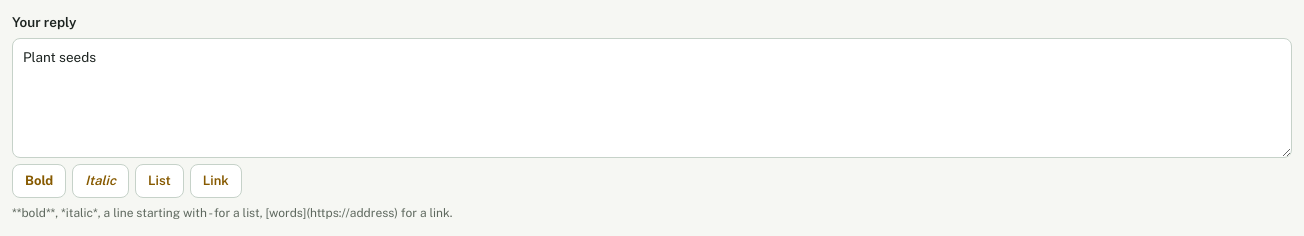
Test: the composer › writes the marks for bold, italic, a list and a link into the text
Click the button "Bold".
click(39, 180)  # box [12,164,66,198]
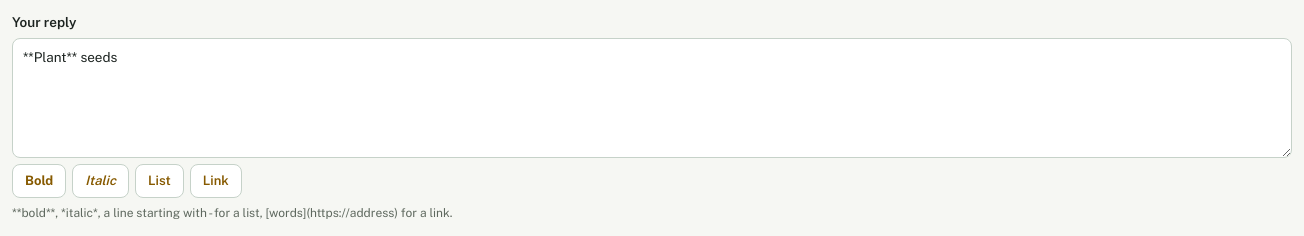
Now the text box labelled "Your reply" holds "**Plant** seeds", box [12,38,1292,158]
Click the button "Italic".
click(101, 180)  # box [72,164,129,198]
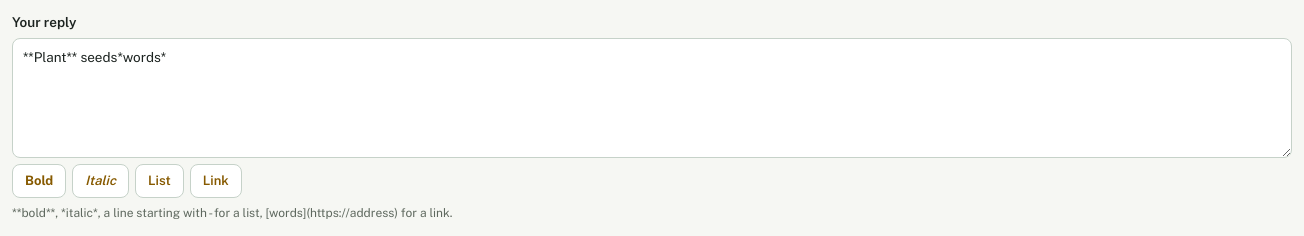
Now the text box labelled "Your reply" holds "**Plant** seeds*words*", box [12,38,1292,158]
Click the button "List".
click(159, 180)  # box [135,164,184,198]
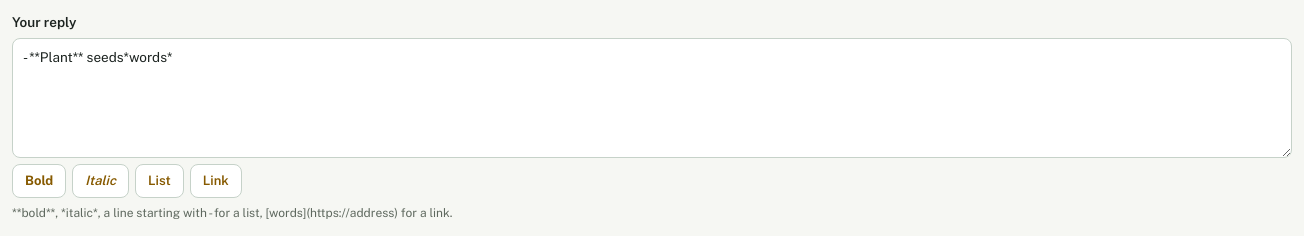
Now the text box labelled "Your reply" holds "- **Plant** seeds*words*", box [12,38,1292,158]
Click the button "Link".
click(216, 180)  # box [190,164,242,198]
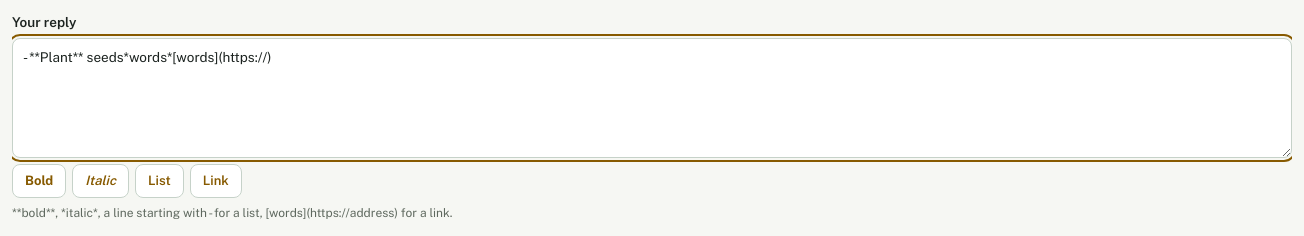
Expected: the element named "Formatting for your reply" is shown, [12,164,242,198]
Now the text box labelled "Your reply" holds "- **Plant** seeds*words*[words](https://)", box [12,38,1292,158]
